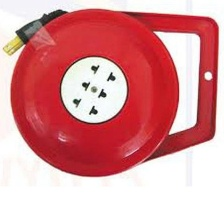three_eye_plug: (4, 5, 183, 180)
